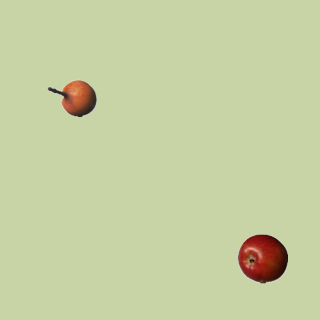Apple Braeburn: (237, 233, 287, 283)
Granadilla: (46, 73, 96, 123)
